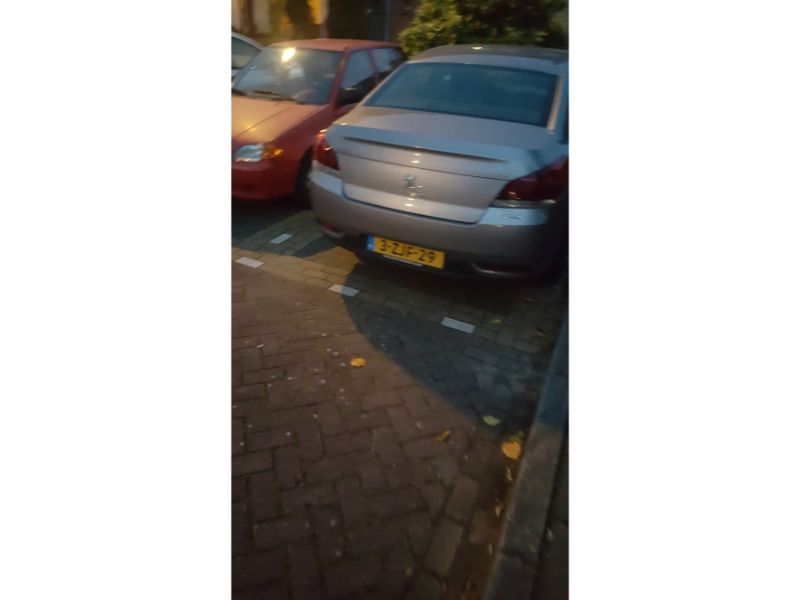kenteken: (365, 235, 444, 269)
